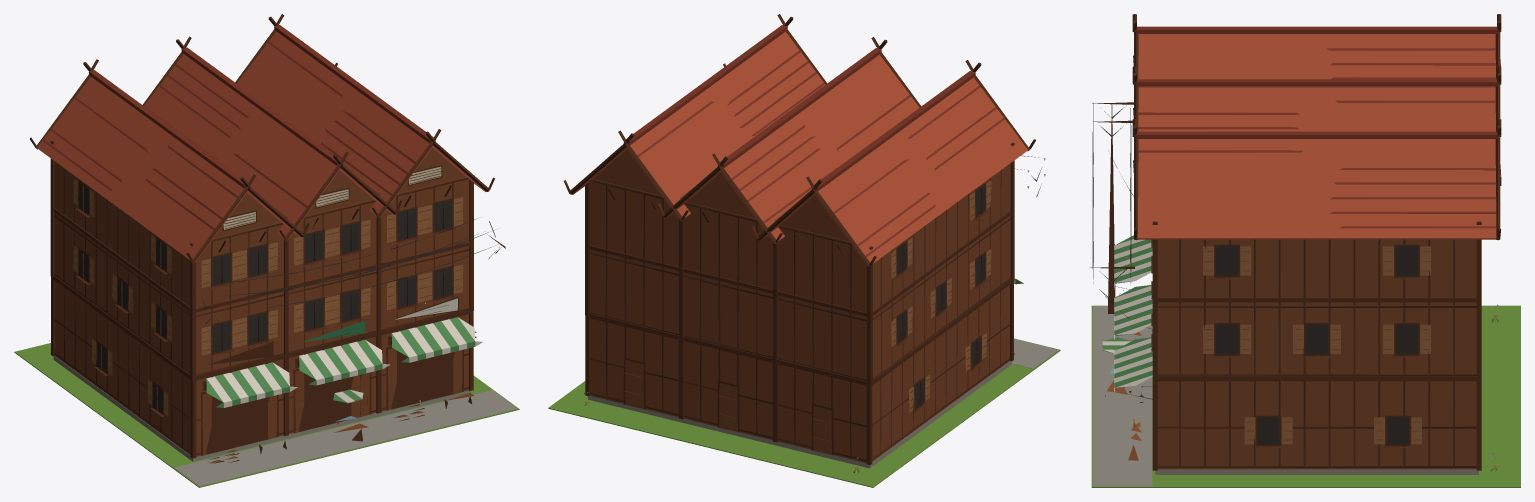
File: shop_4.glb
3 views of the same model, side by side, from view 1: azimuth 30°, elevation 25°; view 2: azimuth 150°, elevation 25°; view 3: azimuth 270°, elevation 25° (orthographic). The views are drawn at different scales.
Parts seen in each view (by area): view 1: body, windows; view 2: body, windows; view 3: body, windows.
Boxes of the visible parts, x1=… form: body: x1=14, y1=14, x2=519, y2=487; windows: x1=79, y1=182, x2=452, y2=412; body: x1=548, y1=14, x2=1060, y2=487; windows: x1=897, y1=185, x2=985, y2=408; body: x1=1090, y1=14, x2=1520, y2=487; windows: x1=1216, y1=246, x2=1417, y2=444.
Bounding box in the file's own units: 15.9 × 13.61 × 16.
